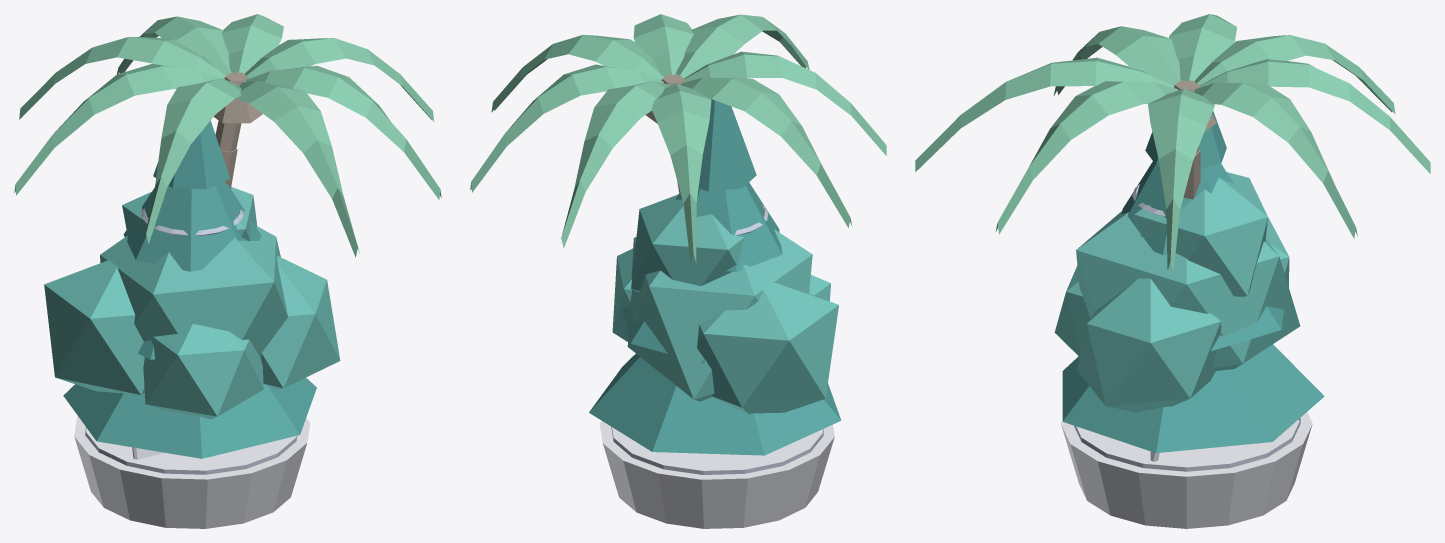
Rendered from nature.glb.
3 renders of one model, left to right at view 1: azimuth 30°, elevation 25°; view 2: azimuth 150°, elevation 25°; view 3: azimuth 270°, elevation 25°, orthographic. The views are drawn at different scales.
Parts seen in each view (by area): view 1: oak_foliage, palm_palm, pine_foliageDark, planter_planter, palm_trunk, planter_silver, lamp_silver; view 2: oak_foliage, palm_palm, pine_foliageDark, planter_planter, planter_silver; view 3: oak_foliage, palm_palm, pine_foliageDark, planter_planter, planter_silver, palm_trunk.
Boxes of the visible parts, <box> form: oak_foliage: <box>44,187,340,419</box>; palm_palm: <box>14,14,441,257</box>; pine_foliageDark: <box>63,120,316,458</box>; planter_planter: <box>74,416,310,528</box>; palm_trunk: <box>214,72,262,188</box>; planter_silver: <box>85,427,297,474</box>; lamp_silver: <box>141,208,243,235</box>; oak_foliage: <box>612,194,838,413</box>; palm_palm: <box>470,14,886,262</box>; pine_foliageDark: <box>589,99,841,455</box>; planter_planter: <box>599,421,834,528</box>; planter_silver: <box>611,427,823,474</box>; oak_foliage: <box>1054,172,1300,412</box>; palm_palm: <box>915,14,1430,271</box>; pine_foliageDark: <box>1062,111,1324,453</box>; planter_planter: <box>1061,412,1312,528</box>; planter_silver: <box>1074,418,1300,471</box>; palm_trunk: <box>1174,80,1216,199</box>.
Bounding box in the file's own units: 7.92 × 8.44 × 8.59.
